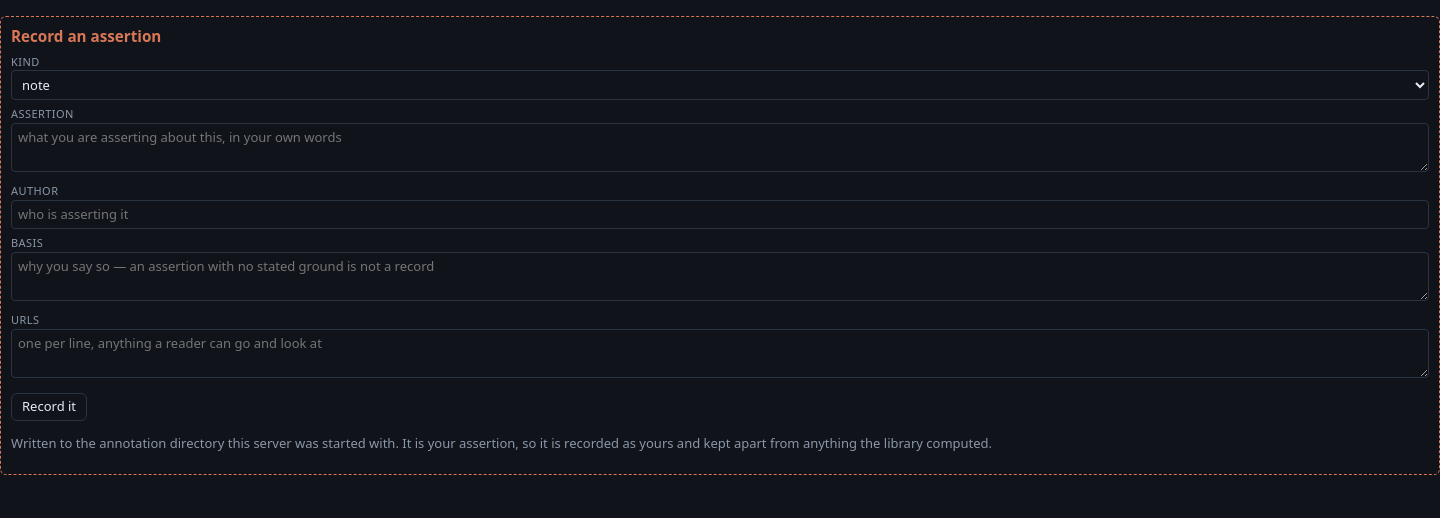
Test: what the form refuses › refuses a record with no basis, naming it, without asking the server
Step 1. Type "a venue deposit address" into the text box labelled "assertion" → (720, 147), box [11,123,1429,172]
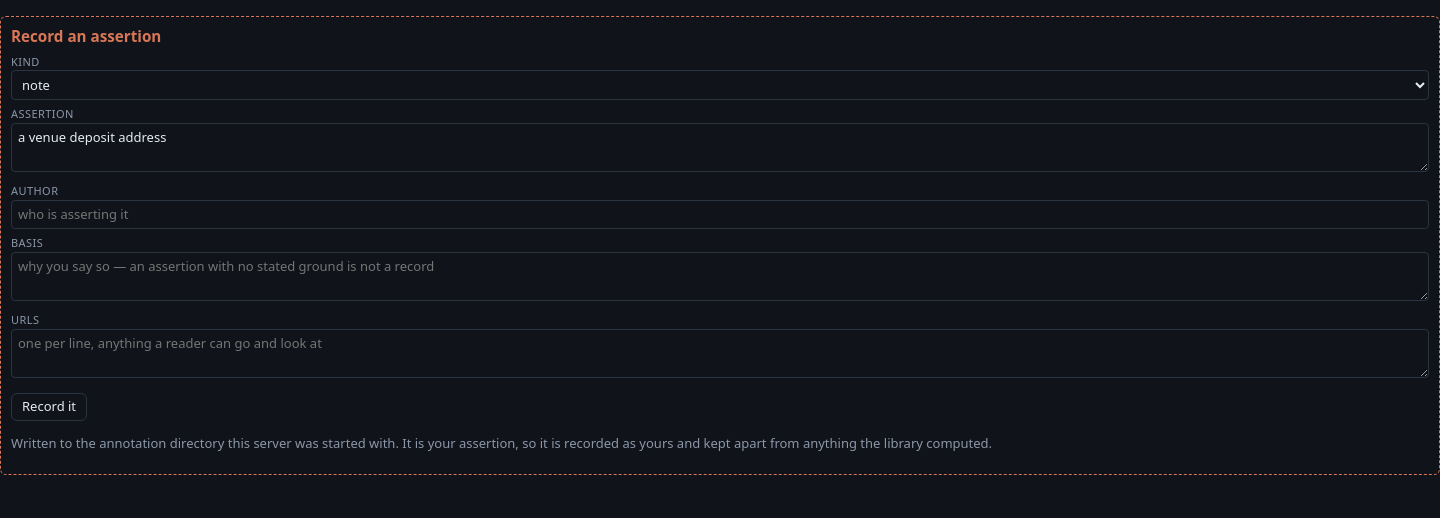
Step 2. Type "pm" into the field labelled "author" → (720, 215), box [11,200,1429,229]
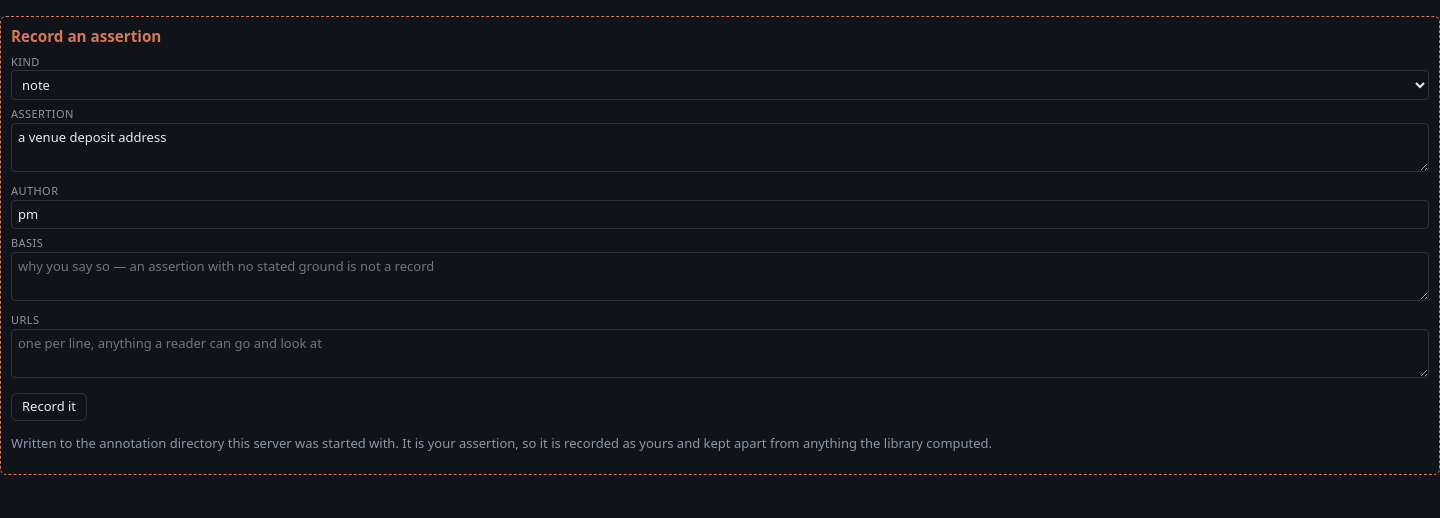
Step 3. Click the button "Record it" → (49, 407), box [11,393,87,421]
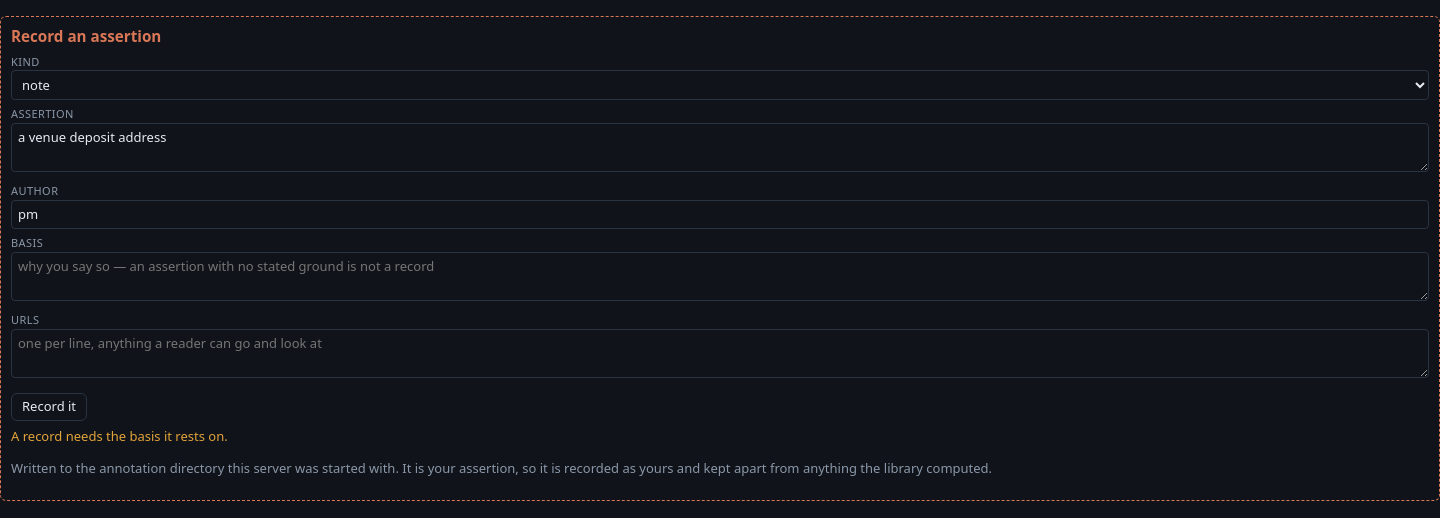
Now the text "A record needs the basis it rests on." is shown, box [11,427,228,445]
